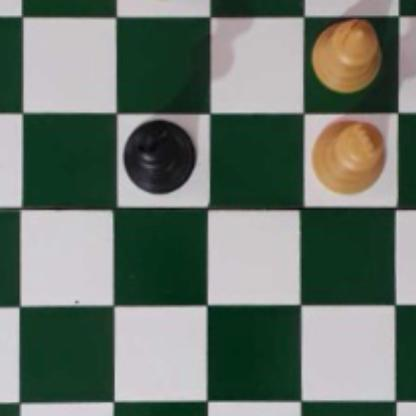black-king: (119, 119, 196, 194)
white-bishop: (313, 16, 379, 93)
white-king: (311, 115, 387, 196)
